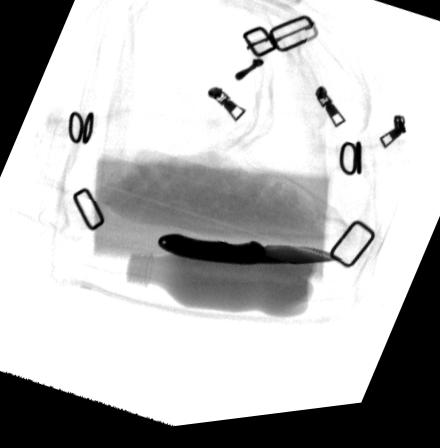Knife: (156, 237, 345, 273)
